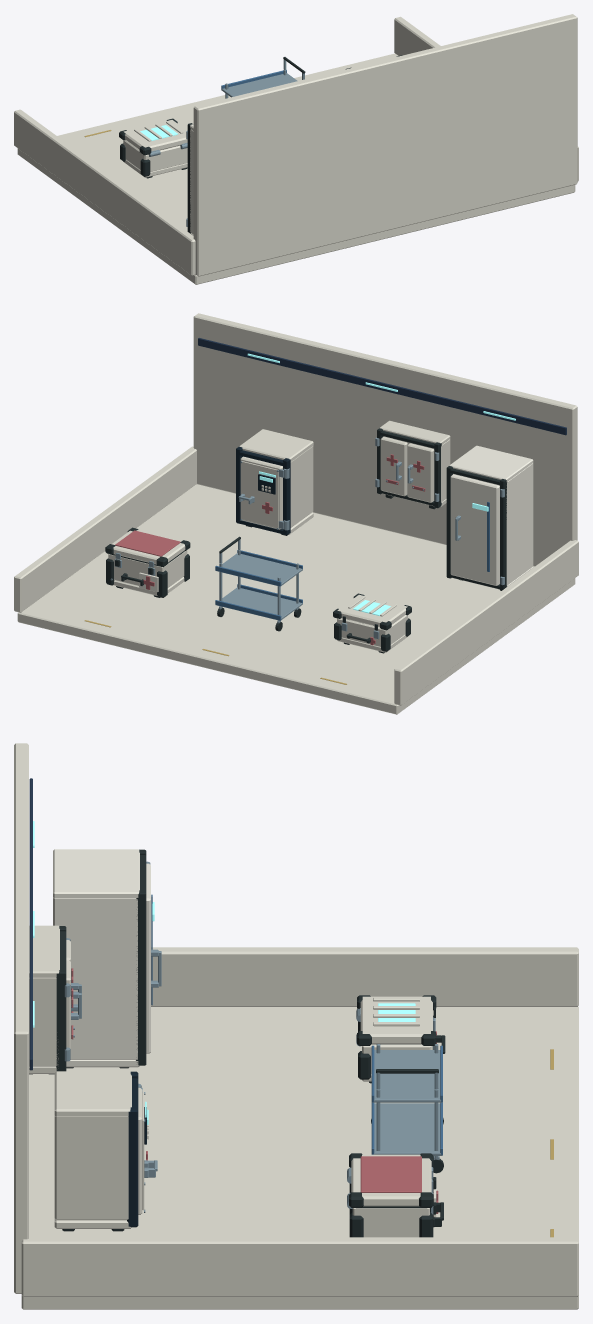
The model's file is medical_storage_room.glb.
3 renders of one model, top to bottom at view 1: azimuth 30°, elevation 25°; view 2: azimuth 150°, elevation 25°; view 3: azimuth 270°, elevation 25°, orthographic. The views are drawn at different scales.
Visible parts, largest first — view 1: rear_wall, room_floor, cutaway_side (×2), sample_transport_case_moving_lid, supply_service_trolley_tray_floor, sample_transport_case_body_back_wall, laboratory_specimen_freezer_body_side_wall, laboratory_specimen_freezer_front_side_frame, sample_transport_case_body_side_wall; view 2: room_floor, rear_wall, cutaway_side (×2), laboratory_specimen_freezer_moving_door, service_rail, laboratory_specimen_freezer_body_side_wall, supply_service_trolley_tray_floor (×2), cold_chain_medical_cabinet_moving_front_inset, laboratory_specimen_freezer_body_roof, cold_chain_medical_cabinet_body_left_wall, cold_chain_medical_cabinet_body_roof, wall_emergency_supply_cabinet_moving_left_door (+9 smaller); view 3: room_floor, cutaway_side (×2), laboratory_specimen_freezer_body_side_wall, rear_wall, cold_chain_medical_cabinet_body_right_wall, supply_service_trolley_tray_floor (×2), laboratory_specimen_freezer_body_roof, cold_chain_medical_cabinet_body_roof, field_medical_chest_moving_lid_inset, wall_emergency_supply_cabinet_body_side_wall, sample_transport_case_moving_lid, field_medical_chest_body_right_wall (+7 smaller).
Part boxes in pixels (left/top/right/bottom): rear_wall: left=193, top=14, right=577, bottom=276; room_floor: left=17, top=53, right=575, bottom=284; cutaway_side (×2): left=14, top=16, right=578, bottom=275; sample_transport_case_moving_lid: left=123, top=120, right=187, bottom=151; supply_service_trolley_tray_floor: left=221, top=73, right=297, bottom=97; sample_transport_case_body_back_wall: left=142, top=145, right=187, bottom=171; laboratory_specimen_freezer_body_side_wall: left=190, top=129, right=193, bottom=234; laboratory_specimen_freezer_front_side_frame: left=187, top=123, right=192, bottom=233; sample_transport_case_body_side_wall: left=123, top=140, right=148, bottom=169; room_floor: left=17, top=484, right=575, bottom=714; rear_wall: left=193, top=313, right=577, bottom=566; cutaway_side (×2): left=14, top=446, right=578, bottom=705; laboratory_specimen_freezer_moving_door: left=450, top=474, right=499, bottom=585; service_rail: left=198, top=338, right=566, bottom=435; laboratory_specimen_freezer_body_side_wall: left=506, top=464, right=533, bottom=585; supply_service_trolley_tray_floor (×2): left=216, top=553, right=302, bottom=620; cold_chain_medical_cabinet_moving_front_inset: left=241, top=461, right=278, bottom=527; laboratory_specimen_freezer_body_roof: left=449, top=445, right=533, bottom=481; cold_chain_medical_cabinet_body_left_wall: left=290, top=446, right=313, bottom=527; cold_chain_medical_cabinet_body_roof: left=239, top=429, right=313, bottom=461; wall_emergency_supply_cabinet_moving_left_door: left=407, top=443, right=434, bottom=502; room_floor: left=21, top=1006, right=578, bottom=1309; cutaway_side (×2): left=21, top=947, right=578, bottom=1296; laboratory_specimen_freezer_body_side_wall: left=53, top=897, right=137, bottom=1059; rear_wall: left=14, top=743, right=28, bottom=1293; cold_chain_medical_cabinet_body_right_wall: left=54, top=1116, right=128, bottom=1220; supply_service_trolley_tray_floor (×2): left=372, top=1050, right=442, bottom=1155; laboratory_specimen_freezer_body_roof: left=53, top=849, right=139, bottom=898; cold_chain_medical_cabinet_body_roof: left=54, top=1071, right=131, bottom=1116; field_medical_chest_moving_lid_inset: left=360, top=1156, right=421, bottom=1192; wall_emergency_supply_cabinet_body_side_wall: left=29, top=977, right=58, bottom=1066; sample_transport_case_moving_lid: left=360, top=996, right=432, bottom=1043; field_medical_chest_body_right_wall: left=352, top=1208, right=429, bottom=1237.
Bounding box in the file's own units: 6.53 × 2.86 × 5.27.
